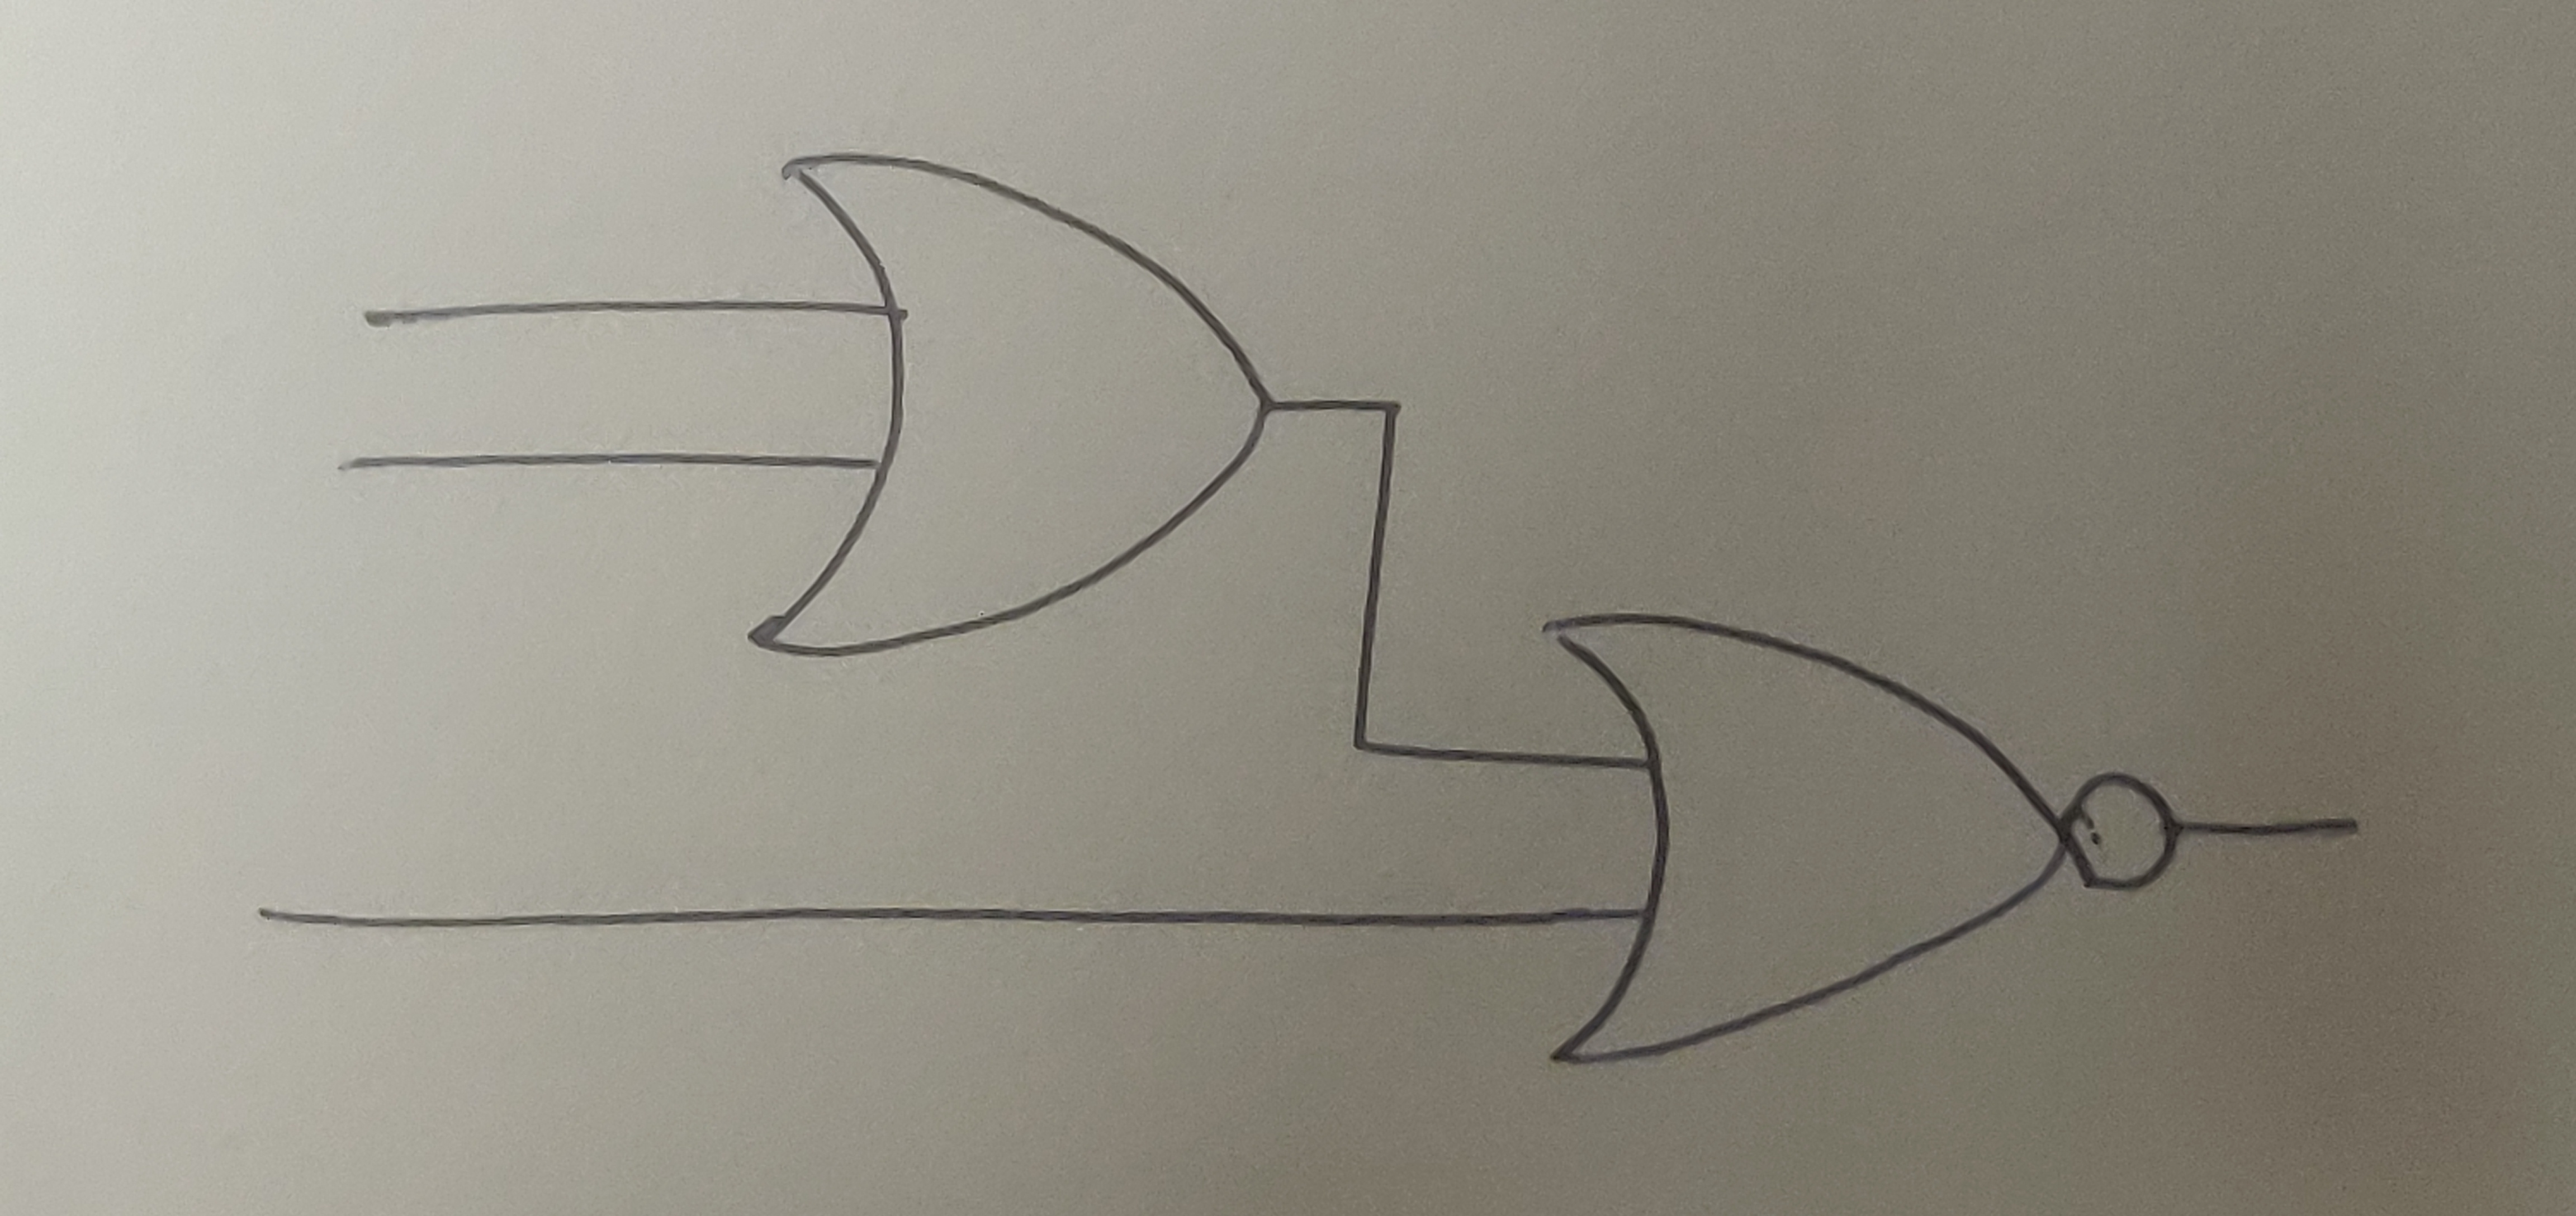not: (2067, 772, 2182, 897)
or: (743, 148, 1281, 661), (1534, 611, 2070, 1078)
